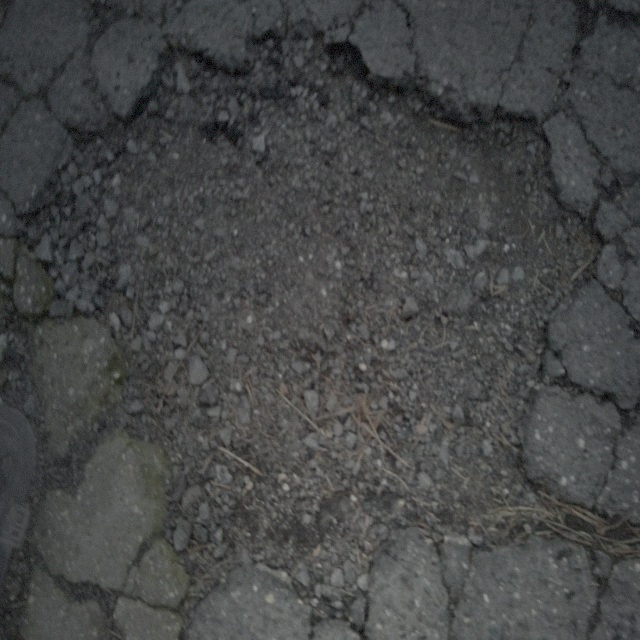pothole: (38, 36, 581, 596)
